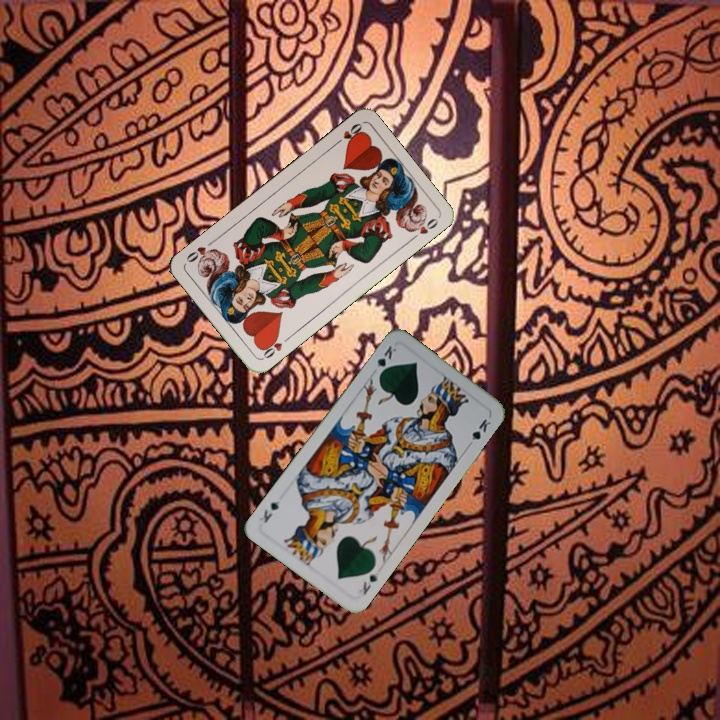GK: (372, 341, 399, 379), (354, 568, 381, 597)
HO: (257, 332, 293, 362), (330, 119, 365, 149)
